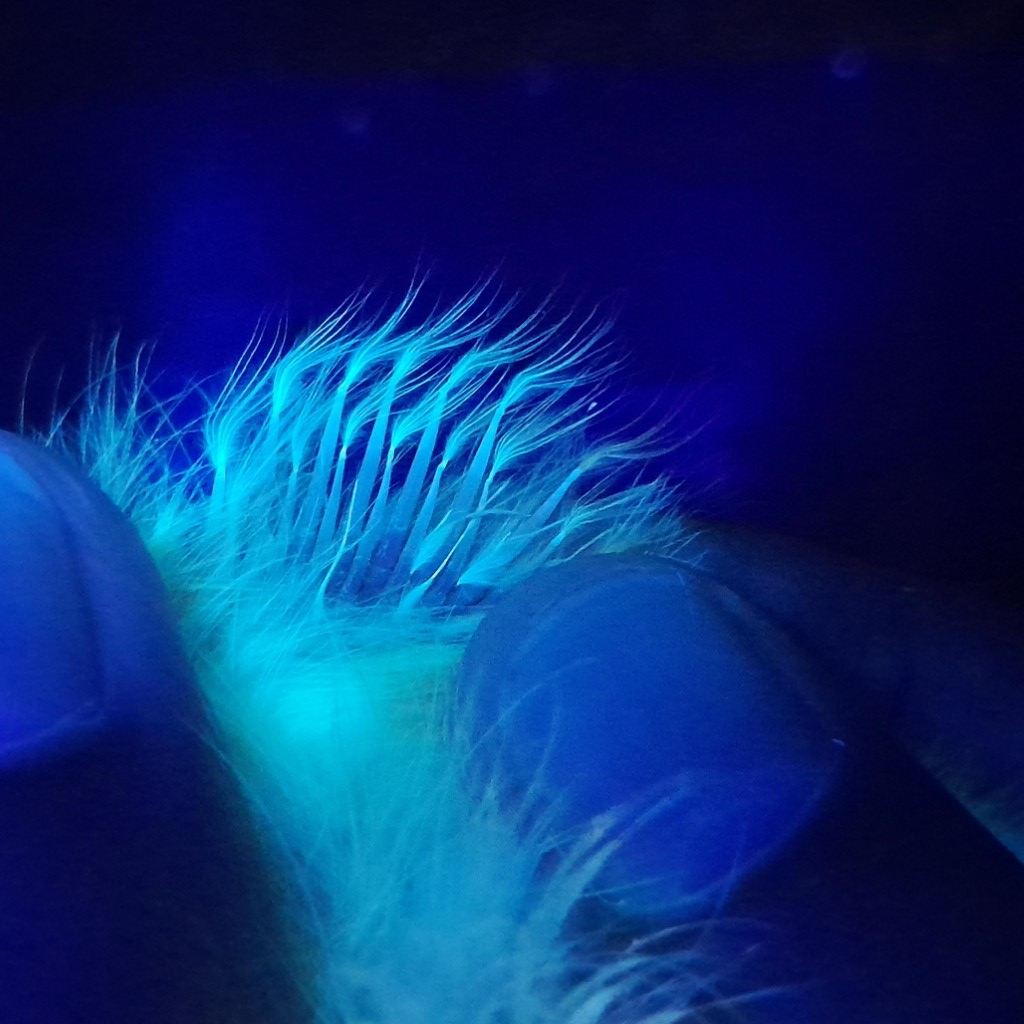female: (244, 355, 546, 629)
